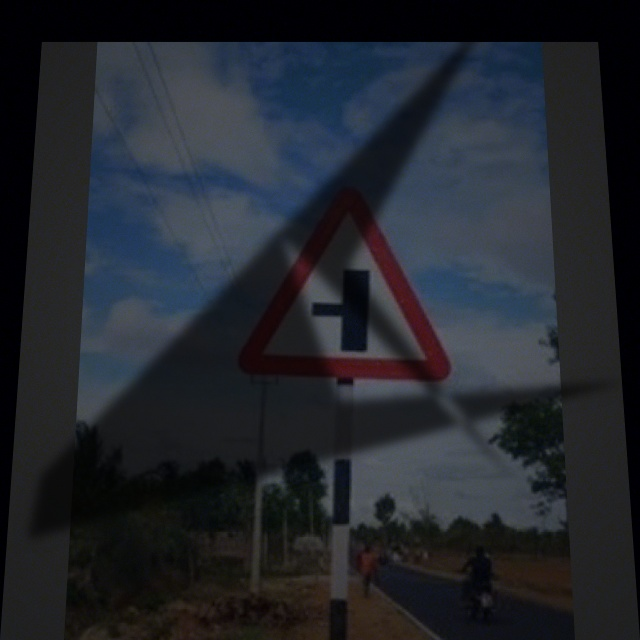Side_Road_Left: (236, 194, 459, 387)
